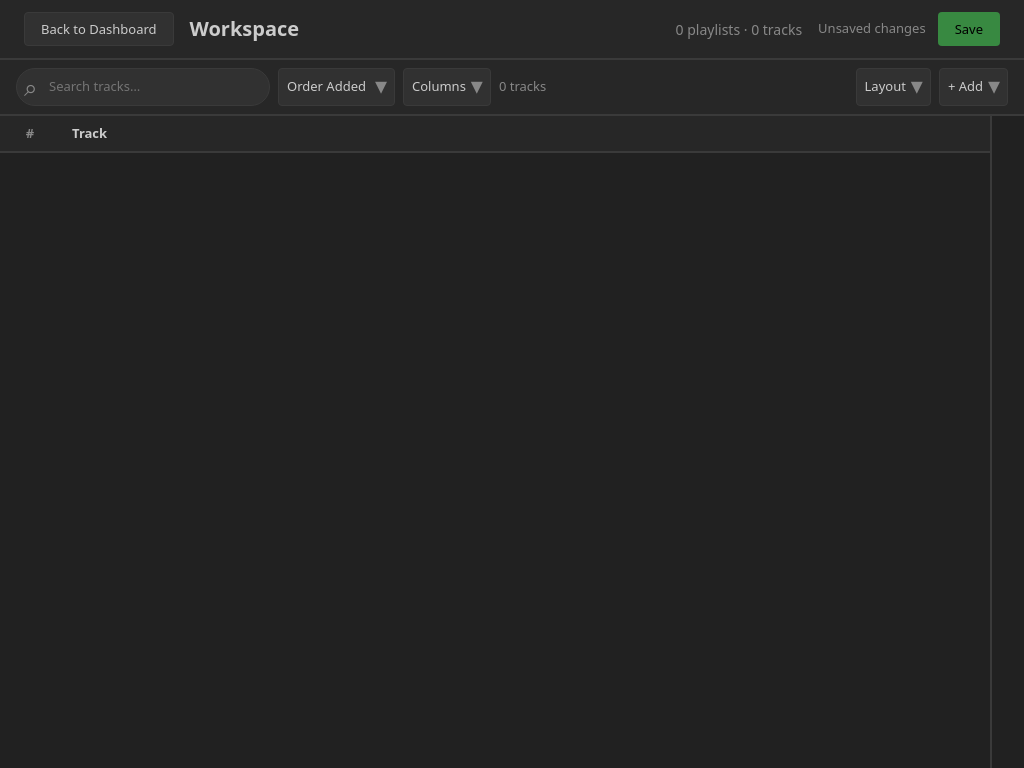
Test case: WorkspaceView › save timestamp › shows a saved timestamp after a successful save
Click the button with class "btn--primary" at (969, 29), box [938,12,1000,46]
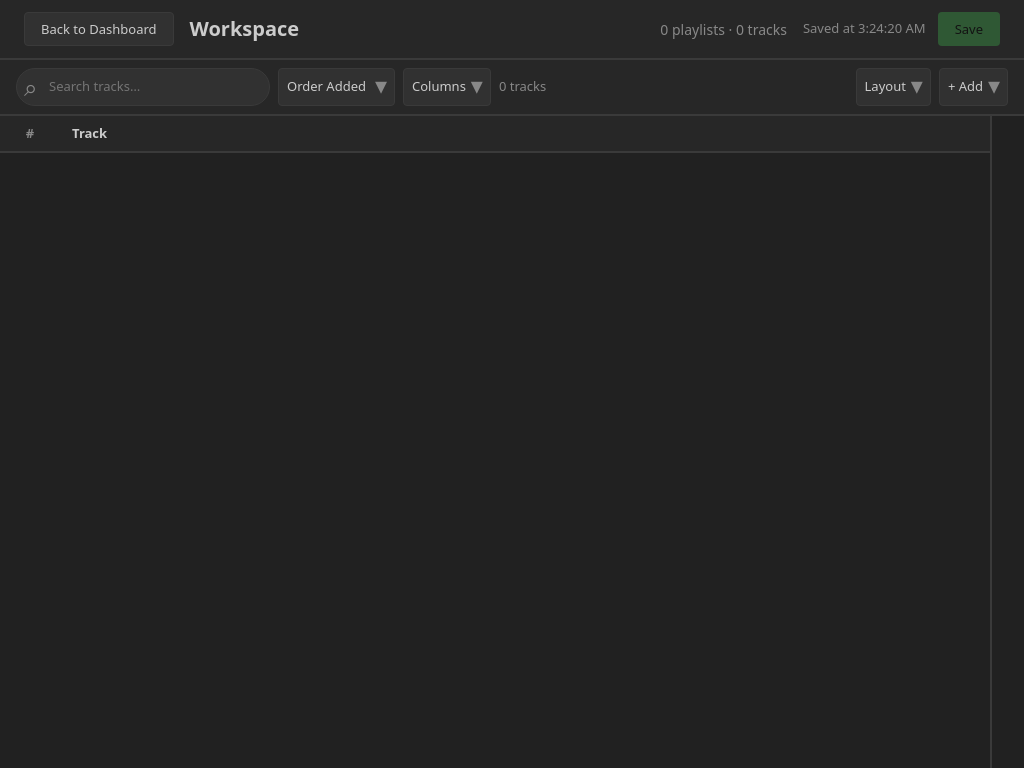
Now the text with class "workspace__saved-indicator" shows "Saved at", box [803,19,926,37]
